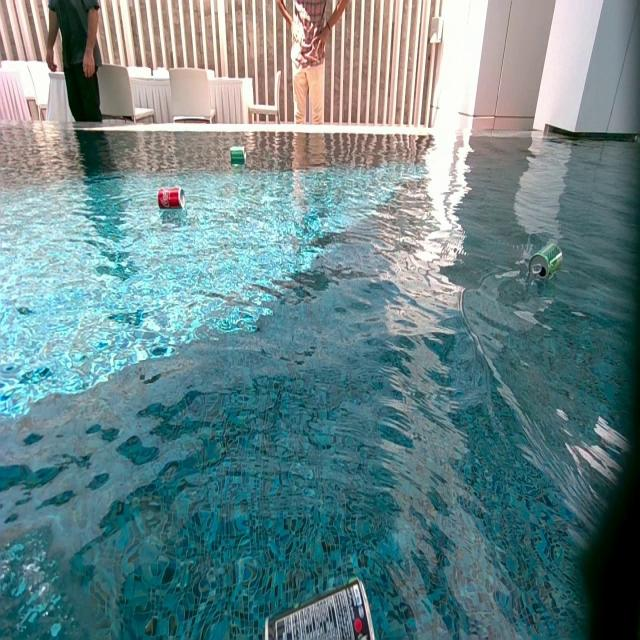Cans: (264, 573, 386, 636), (528, 243, 562, 283), (158, 189, 184, 211), (231, 146, 247, 164)
